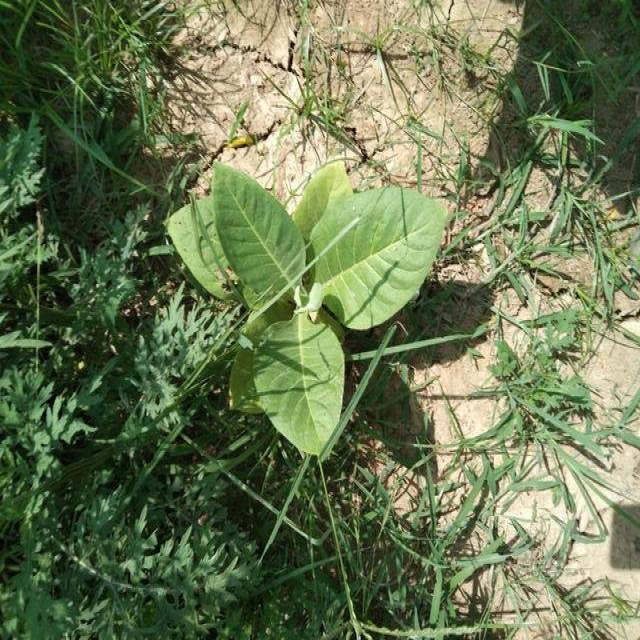crop: (160, 148, 450, 457)
